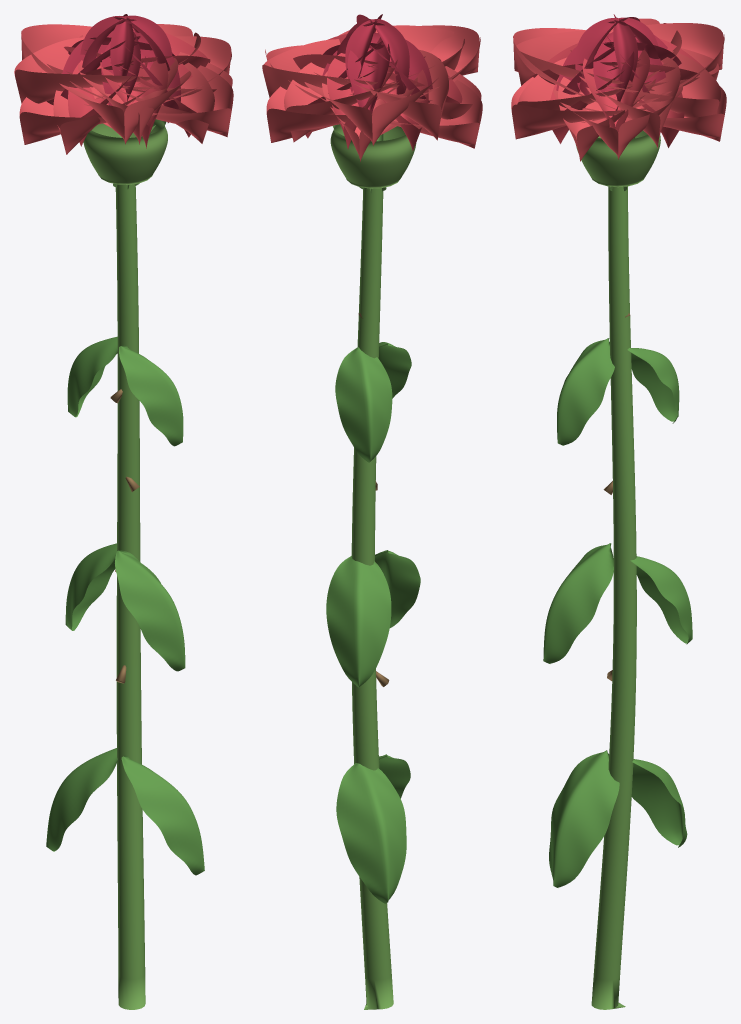
File: Red_Rose_3D_Model.glb
3 views of the same model, side by side, from view 1: azimuth 30°, elevation 25°; view 2: azimuth 150°, elevation 25°; view 3: azimuth 270°, elevation 25° (orthographic).
Parts seen in each view (by area): view 1: stem, leaf_3, leaf_5, receptacle, leaf_1, rose_petal_3_4, leaf_4, leaf_2, leaf_0, rose_petal_4_4, rose_petal_3_7, rose_petal_4_3 (+15 smaller); view 2: stem, leaf_4, leaf_2, leaf_0, receptacle, rose_petal_3_1, rose_petal_3_4, leaf_3, rose_petal_4_0, rose_petal_3_2, rose_petal_4_1, rose_petal_4_2 (+13 smaller); view 3: stem, leaf_5, leaf_3, leaf_1, leaf_4, receptacle, leaf_2, leaf_0, rose_petal_3_2, rose_petal_4_1, rose_petal_3_6, rose_petal_4_4 (+13 smaller).
Part boxes in pixels (bbox=[...]): stem: bbox=[115, 184, 145, 1009]; leaf_3: bbox=[115, 550, 185, 671]; leaf_5: bbox=[121, 755, 204, 875]; receptacle: bbox=[83, 119, 167, 184]; leaf_1: bbox=[119, 345, 183, 446]; rose_petal_3_4: bbox=[14, 37, 150, 103]; leaf_4: bbox=[46, 748, 118, 851]; leaf_2: bbox=[65, 543, 116, 630]; leaf_0: bbox=[67, 336, 118, 417]; rose_petal_4_4: bbox=[84, 65, 233, 137]; rose_petal_3_7: bbox=[108, 62, 214, 143]; rose_petal_4_3: bbox=[59, 71, 191, 144]; stem: bbox=[351, 187, 393, 1009]; leaf_4: bbox=[336, 763, 406, 903]; leaf_2: bbox=[326, 556, 391, 687]; leaf_0: bbox=[335, 347, 392, 462]; receptacle: bbox=[330, 124, 416, 188]; rose_petal_3_1: bbox=[262, 39, 403, 97]; rose_petal_3_4: bbox=[338, 50, 448, 140]; leaf_3: bbox=[375, 550, 420, 627]; rose_petal_4_0: bbox=[266, 86, 372, 142]; rose_petal_3_2: bbox=[284, 62, 399, 142]; rose_petal_4_1: bbox=[304, 77, 438, 145]; rose_petal_4_2: bbox=[390, 80, 482, 148]; stem: bbox=[591, 186, 636, 1009]; leaf_5: bbox=[549, 750, 619, 887]; leaf_3: bbox=[543, 543, 613, 663]; leaf_1: bbox=[557, 338, 614, 445]; leaf_4: bbox=[631, 759, 687, 847]; receptacle: bbox=[576, 130, 660, 187]; leaf_2: bbox=[630, 556, 692, 644]; leaf_0: bbox=[627, 348, 679, 423]; rose_petal_3_2: bbox=[602, 50, 721, 117]; rose_petal_4_1: bbox=[581, 23, 724, 122]; rose_petal_3_6: bbox=[514, 30, 654, 90]; rose_petal_4_4: bbox=[511, 77, 652, 139].
Size of the model in its own units: 1.52 by 6.71 by 1.33.
